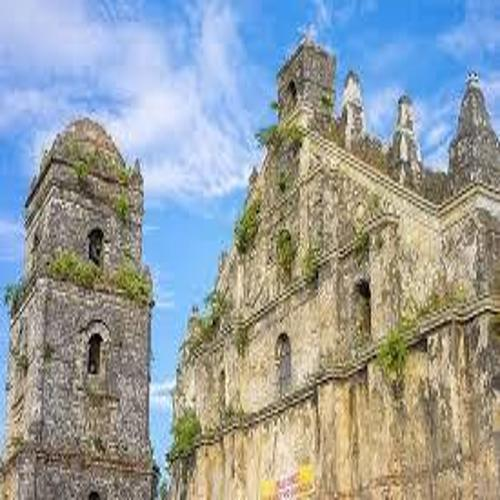Paoay Church: (12, 22, 487, 488)
